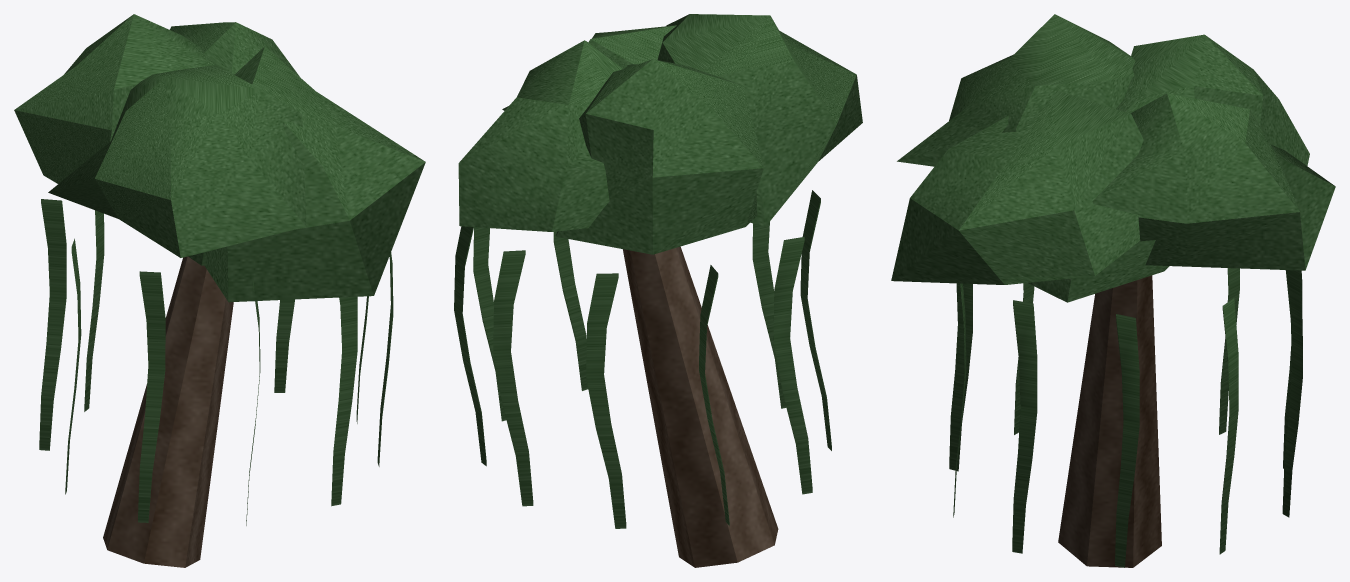
Rendered from ambient_tree_19.glb.
3 views of the same model, side by side, from view 1: azimuth 30°, elevation 25°; view 2: azimuth 150°, elevation 25°; view 3: azimuth 270°, elevation 25° (orthographic). The views are drawn at different scales.
Visible parts, largest first — view 1: ambient_tree_19; view 2: ambient_tree_19; view 3: ambient_tree_19.
Boxes of the visible parts, left/top/right/bottom form: ambient_tree_19: left=14, top=14, right=425, bottom=567; ambient_tree_19: left=454, top=14, right=862, bottom=567; ambient_tree_19: left=891, top=14, right=1335, bottom=567.
Size of the model in its own units: 4.82 by 7.35 by 5.6.
2 materials, 2 textured.
